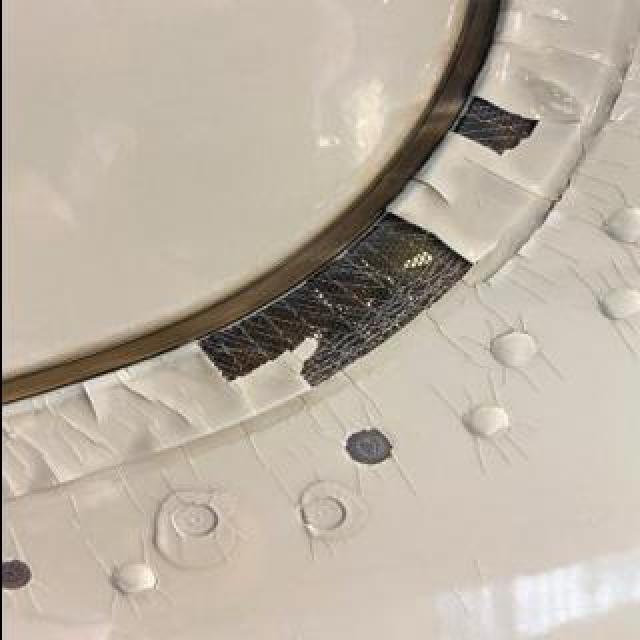crack: (453, 1, 640, 293), (105, 371, 201, 435), (513, 63, 589, 127), (487, 36, 621, 72), (402, 174, 458, 212), (495, 4, 577, 28), (75, 377, 103, 429)
